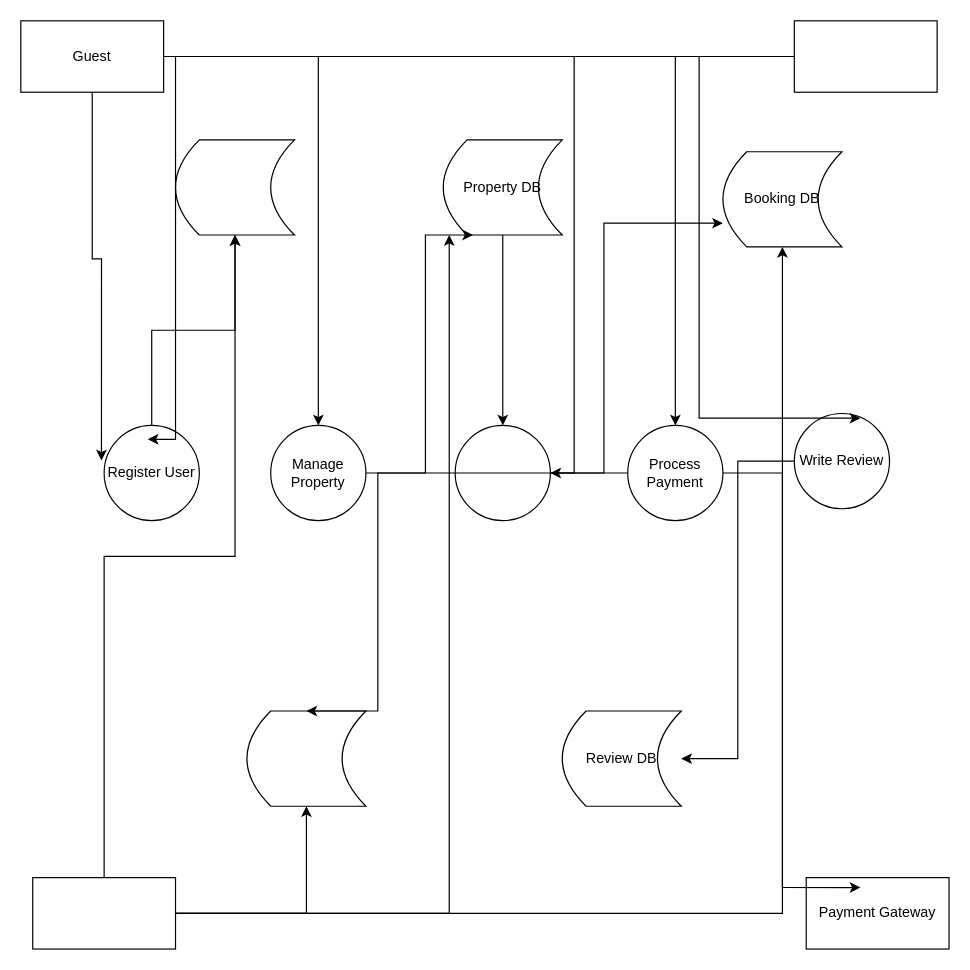
Some shapes in this 970 by 970 pixel diagram are drawn without their labels. Each missing label, with the centre of its shape:
Admin: pixel 104 912
Host: pixel 865 56
Payment DB: pixel 306 758
Search & Book: pixel 502 472
User DB: pixel 234 187
